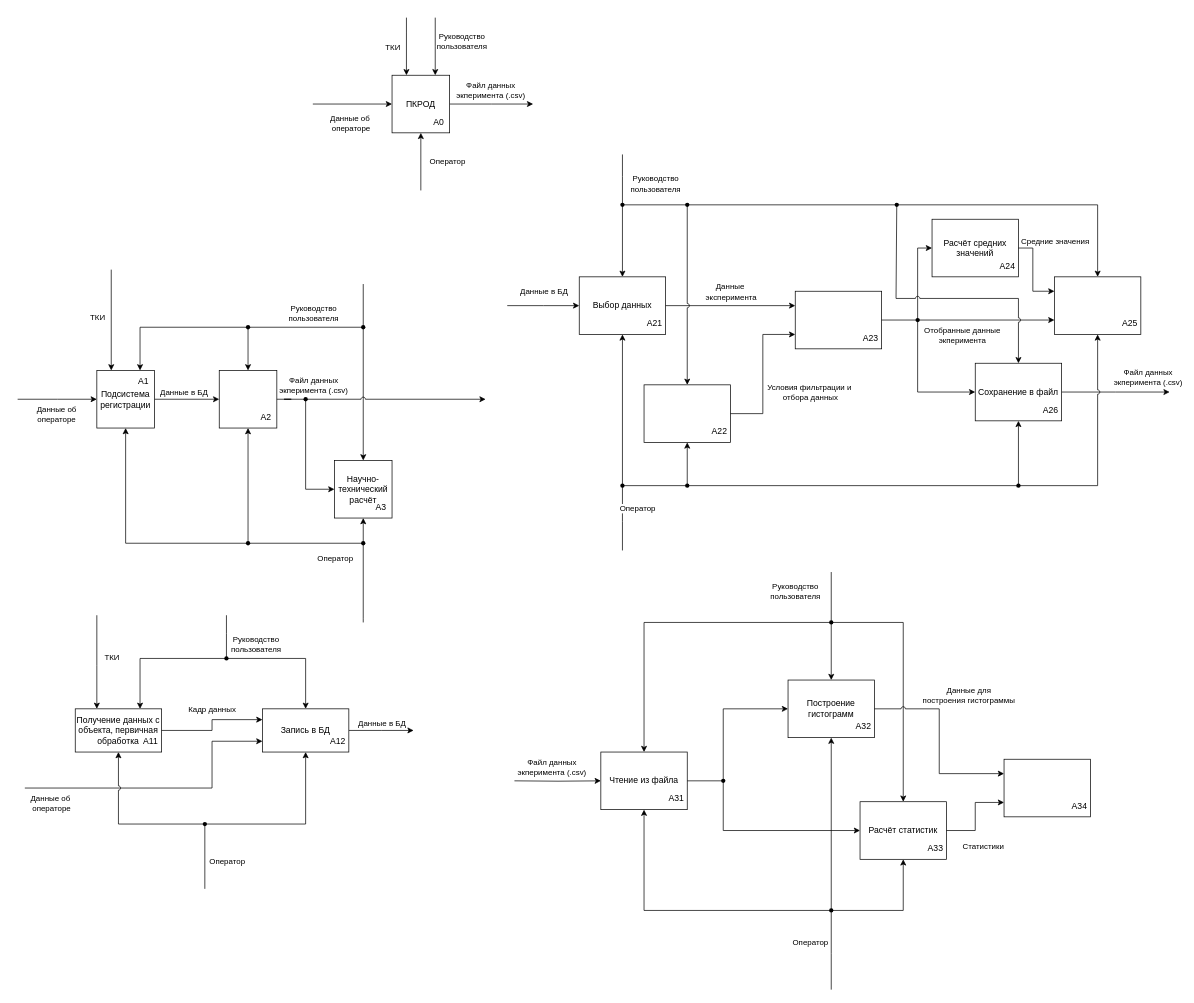
Some shapes in this 1194 by 1003 pixel diagram are drawn without their labels. The box of each missing label's shape, as (x1, y1, x2, y2) in pixels:
Задание условий отбора и фильтрации данных: (643, 384, 730, 442)
Отображение данных: (1054, 276, 1141, 334)
Отображение результатов: (1003, 759, 1090, 817)
Подсистема отбора данных: (219, 370, 277, 428)
Применение условий отбора и фильтрации данных: (795, 291, 882, 349)
